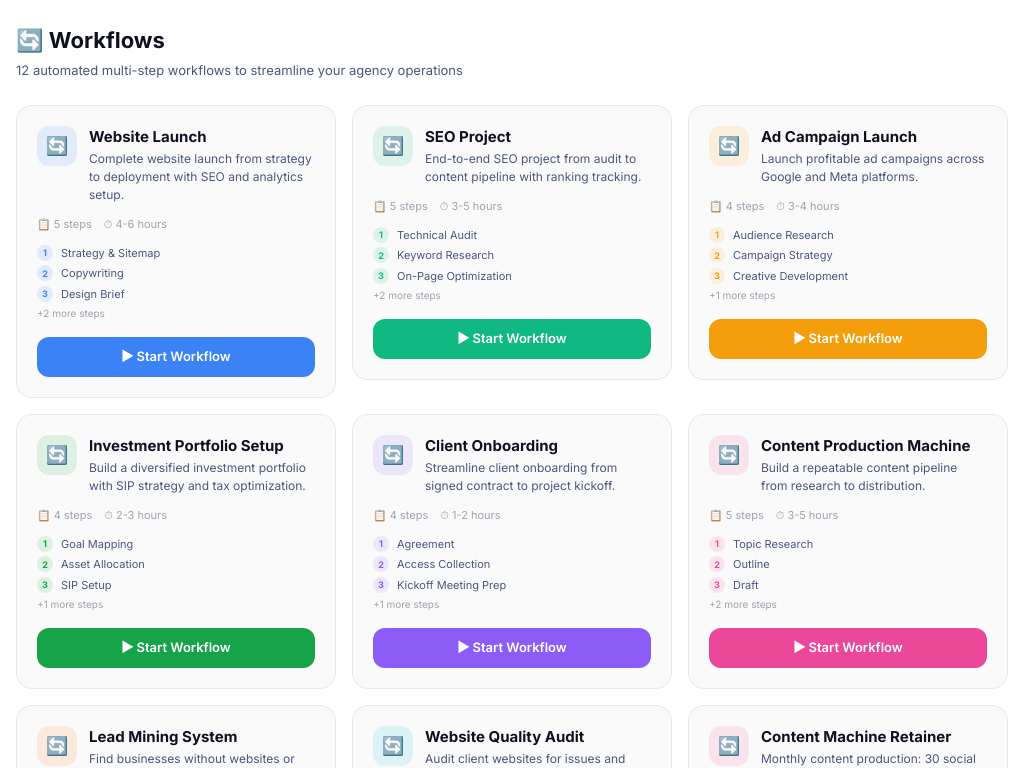
Test case: WorkflowsTab › switches to active workflow view when start is clicked
The width and height of the screenshot is (1024, 768).
Click the button "▶ Start Workflow" below "Design Brief".
click(176, 357)  # box [37,337,315,376]
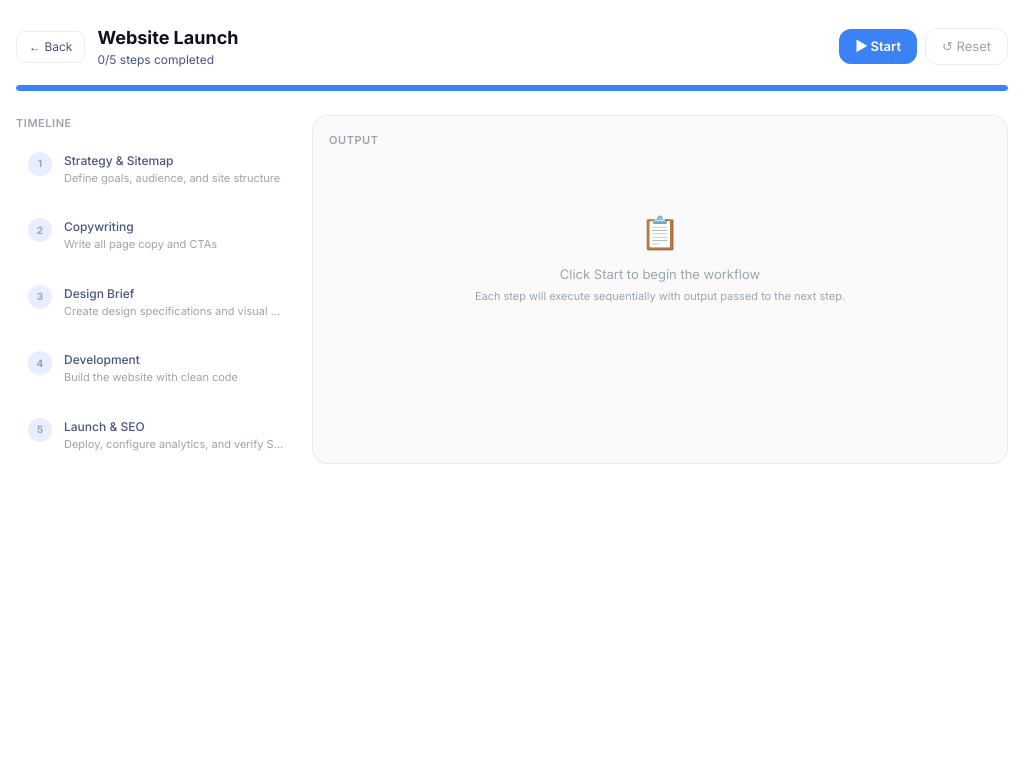
Check: the button "← Back" is shown, box [16,30,85,62]
Check: the button "↺ Reset" is shown, box [925,28,1008,65]
Check: the heading "Output" is shown, box [329,133,379,147]
